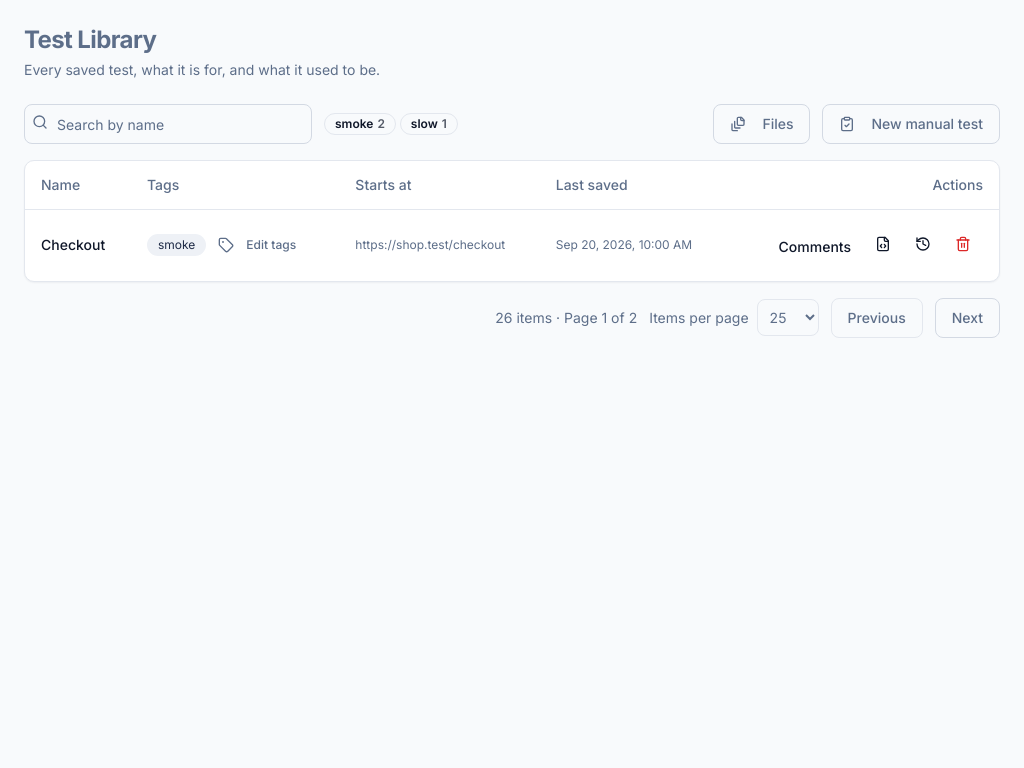
TestLibraryPage › returns to the last valid page after deleting its final item
expect the text "Checkout" is shown: met, box [25,209,131,280]
Click the button "Next" at (967, 318), box [935,298,1000,338]
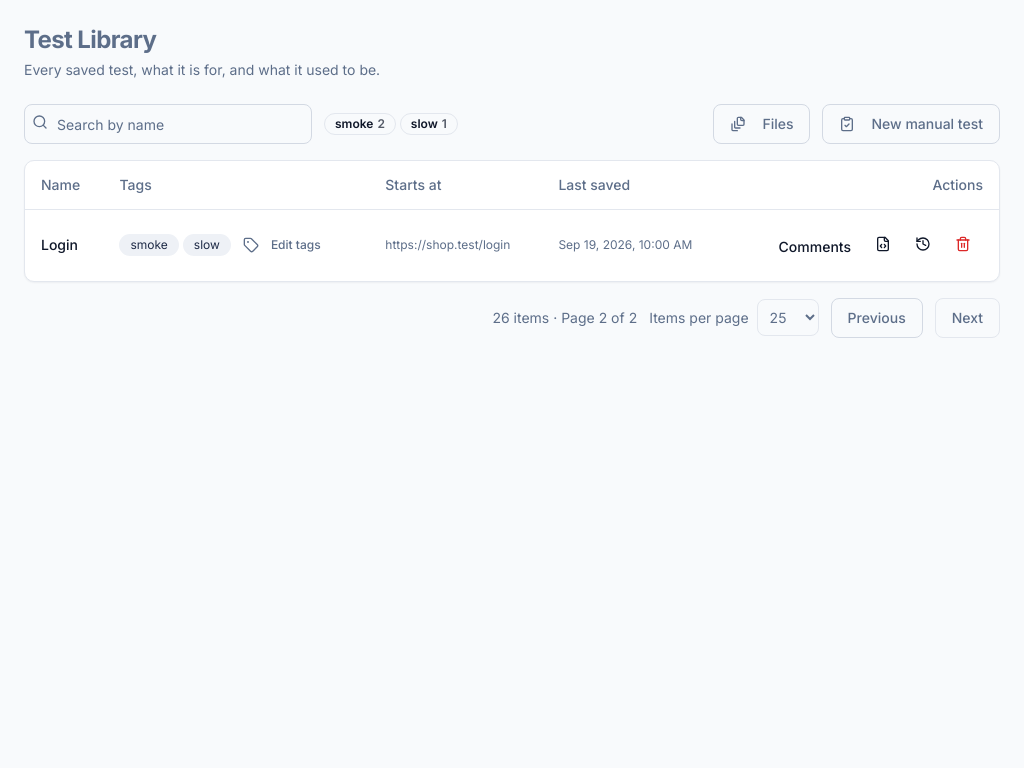
expect the text "Login" is shown: met, box [25,209,104,280]
Click the button titled "Delete" at (963, 244), box [943,226,983,262]
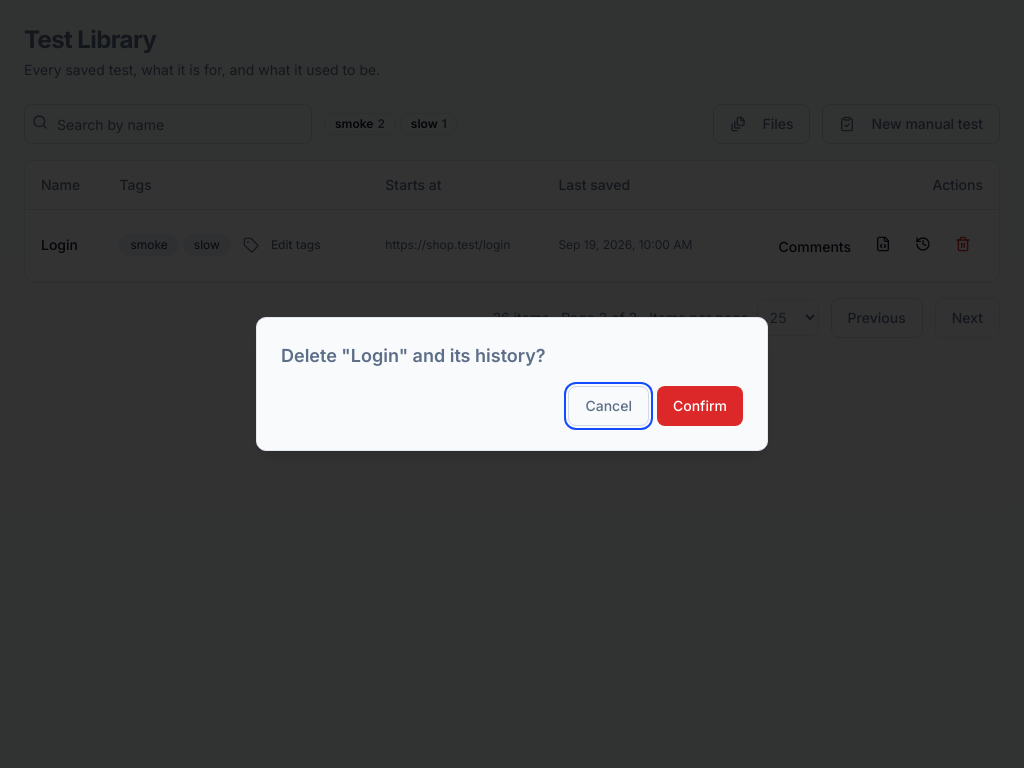
Click the button "Confirm" at (700, 406), box [657,386,743,426]
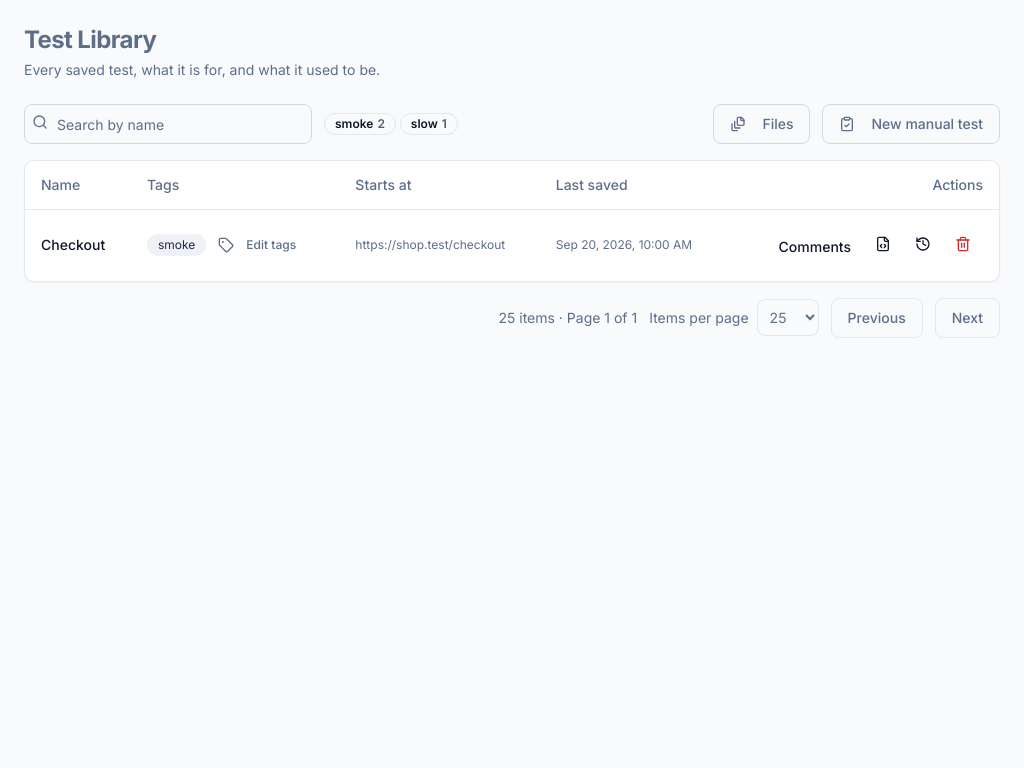
expect the text "25 items · Page 1 of 1" is shown: met, box [498,308,637,328]
expect the text "Checkout" is shown: met, box [25,209,131,280]
